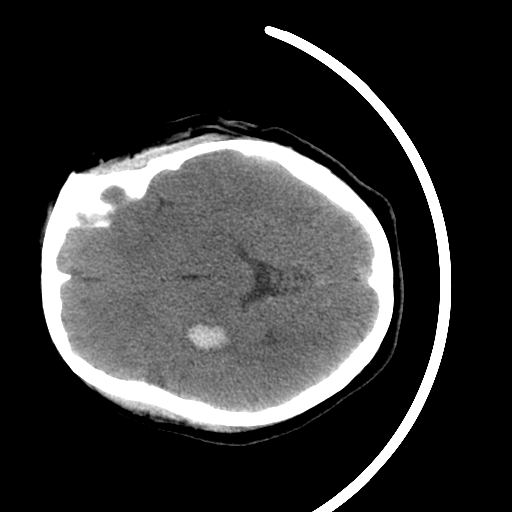a: (172, 310, 254, 365)
